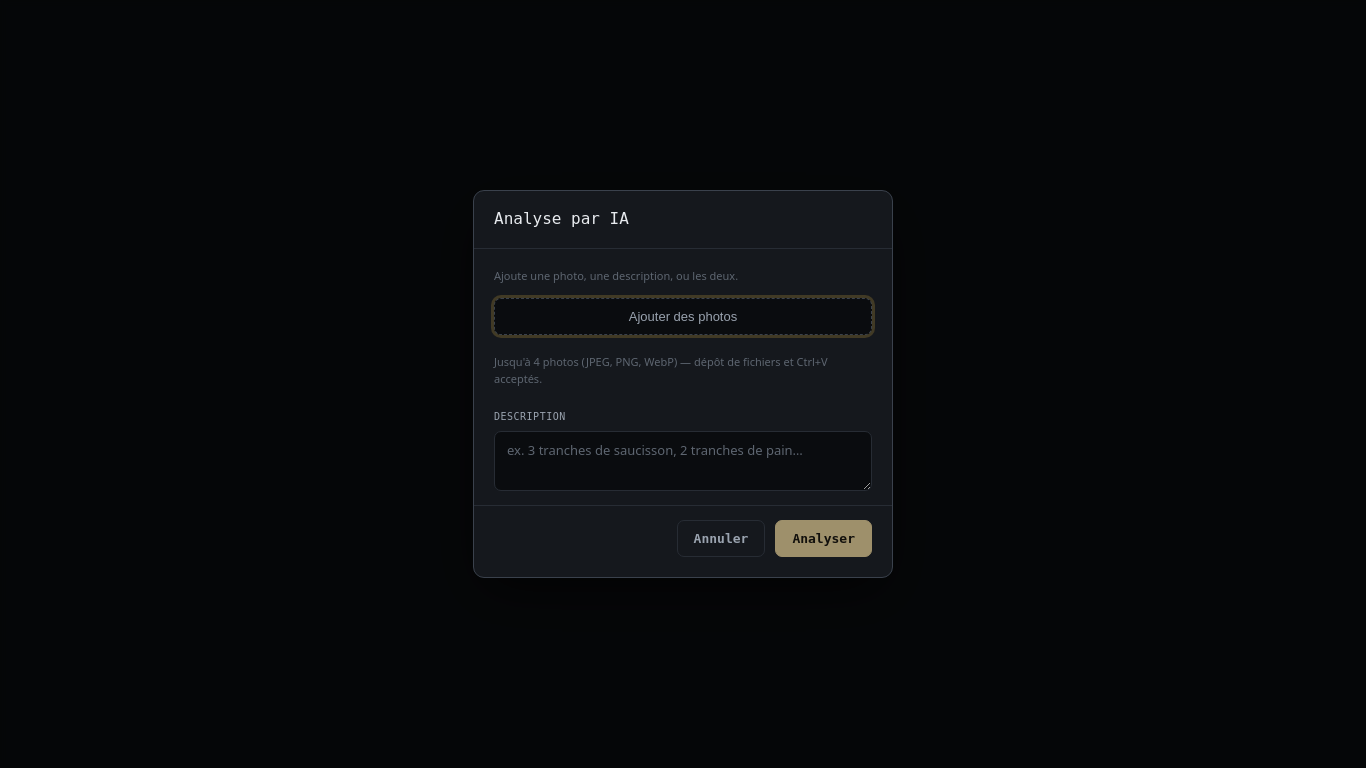
Test case: AiDishAnalysisDialog — no food detected (DS-1/B-160) › on detected:false shows the no-food message and does not pre-fill
This screenshot has width=1366, height=768.
Type "un repas" into the text box with placeholder "ex. 3 tranches de saucisson, 2 tranches de pain…" at (683, 461), box left=494, top=431, right=872, bottom=491
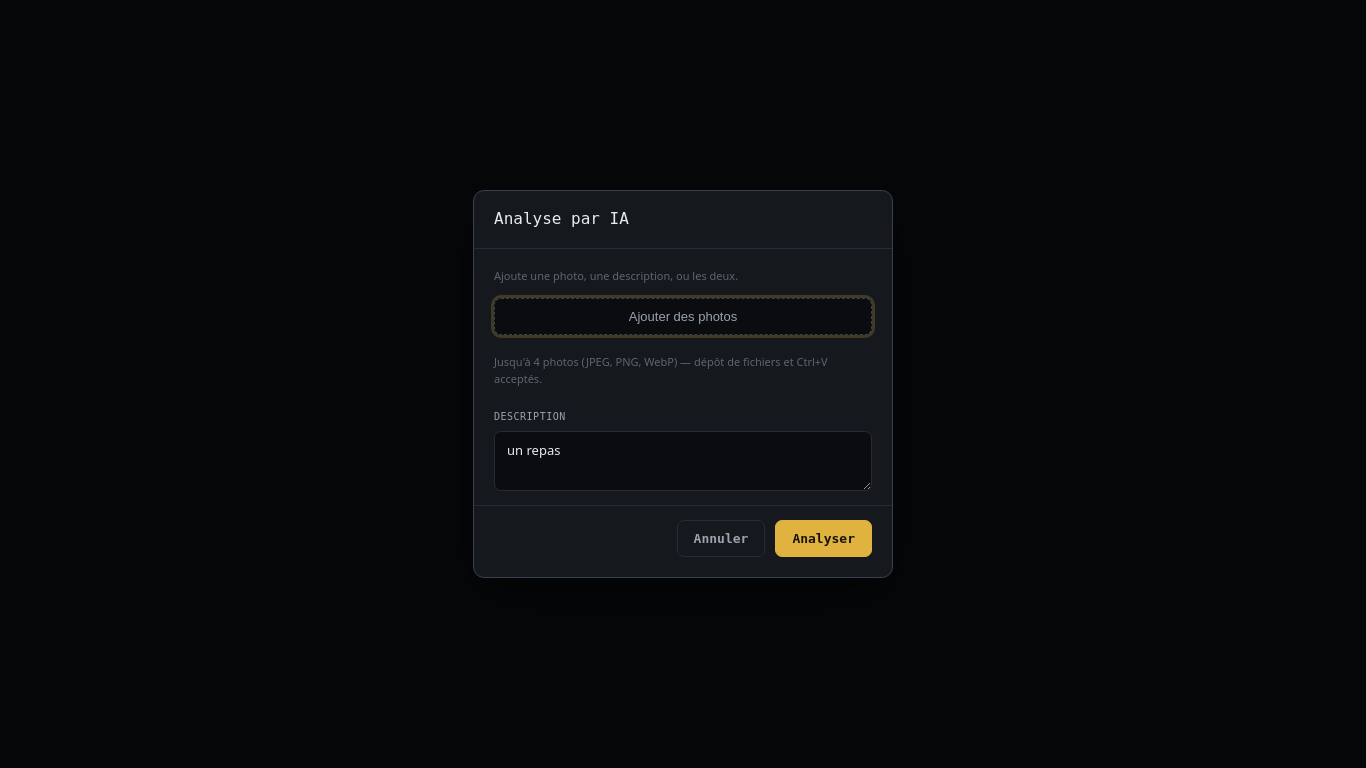
Click the button "Analyser" at (824, 538), box left=775, top=520, right=872, bottom=557
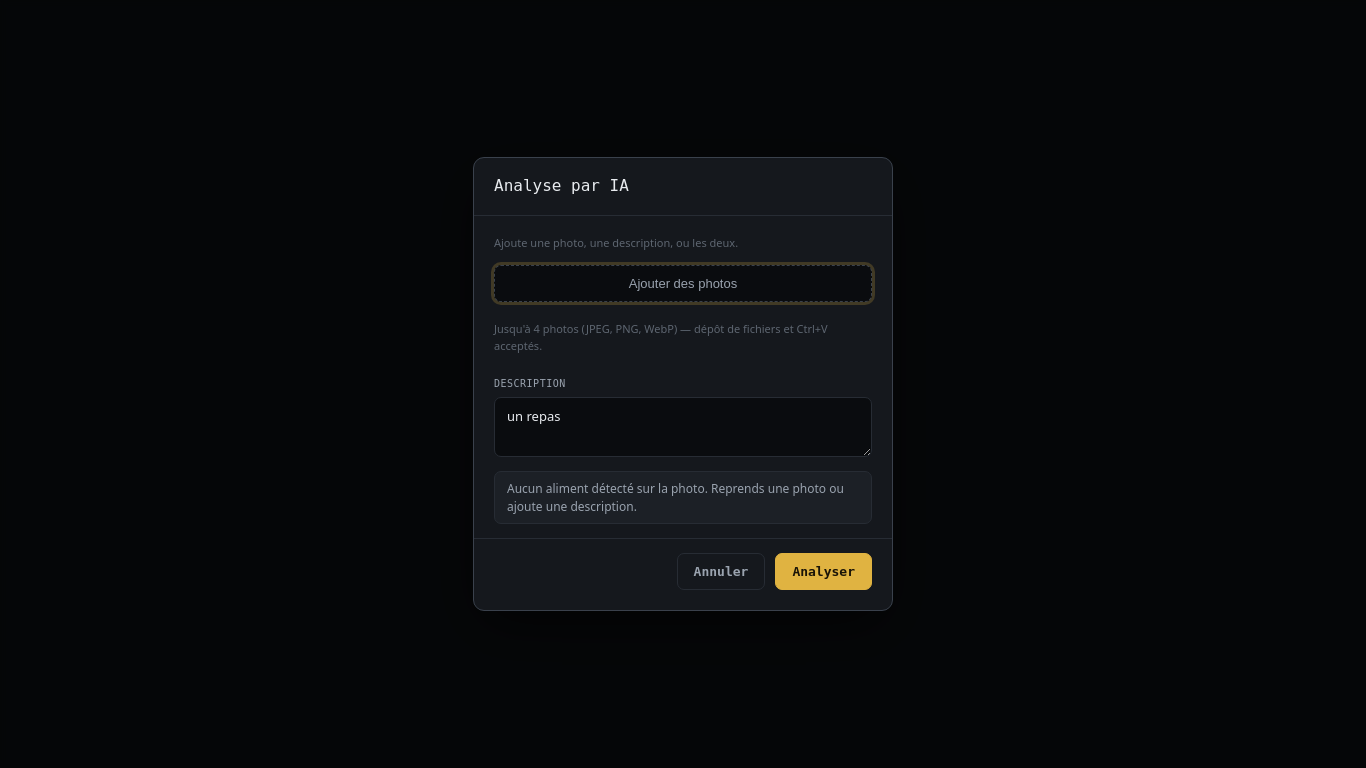
Expected: the text "Aucun aliment détecté" is shown, left=507, top=480, right=844, bottom=515
